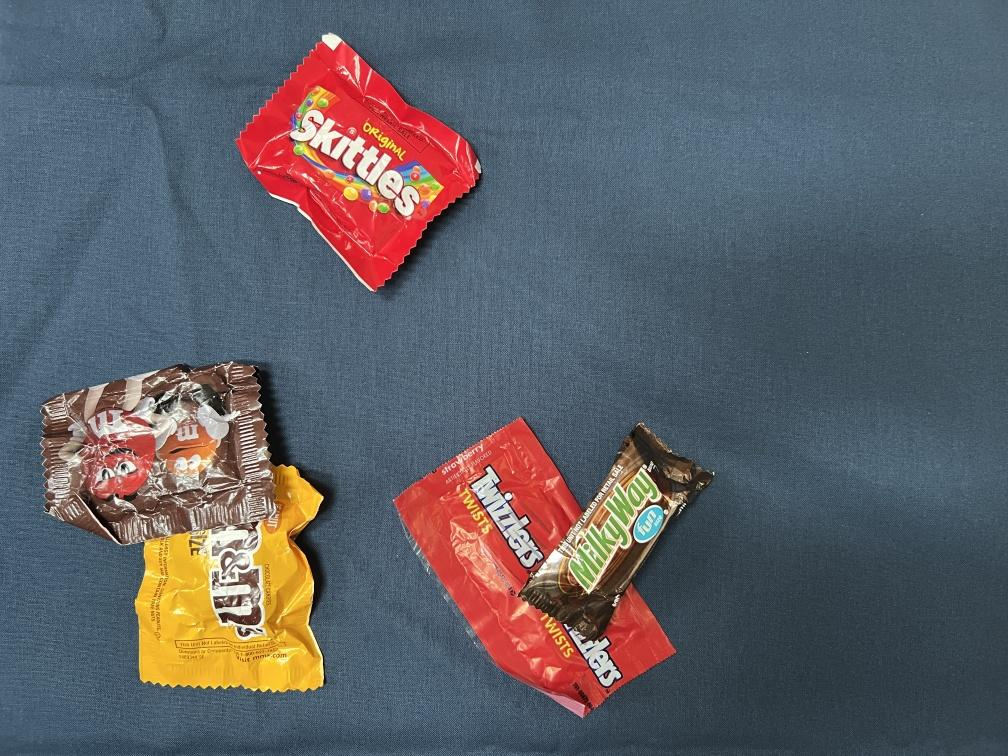MM_regular: (40, 361, 287, 543)
MM_yellow: (135, 467, 331, 691)
milky_way: (514, 427, 713, 643)
skittles: (237, 41, 486, 294)
twizzlers: (397, 420, 679, 714)
